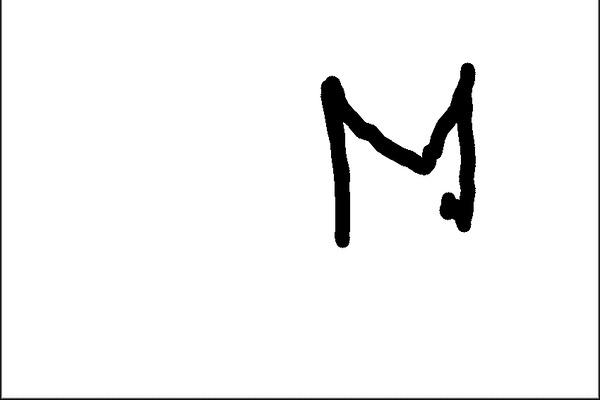M: (315, 58, 480, 243)
